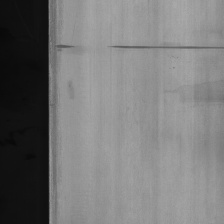crease: (107, 40, 223, 55), (52, 40, 77, 54)
